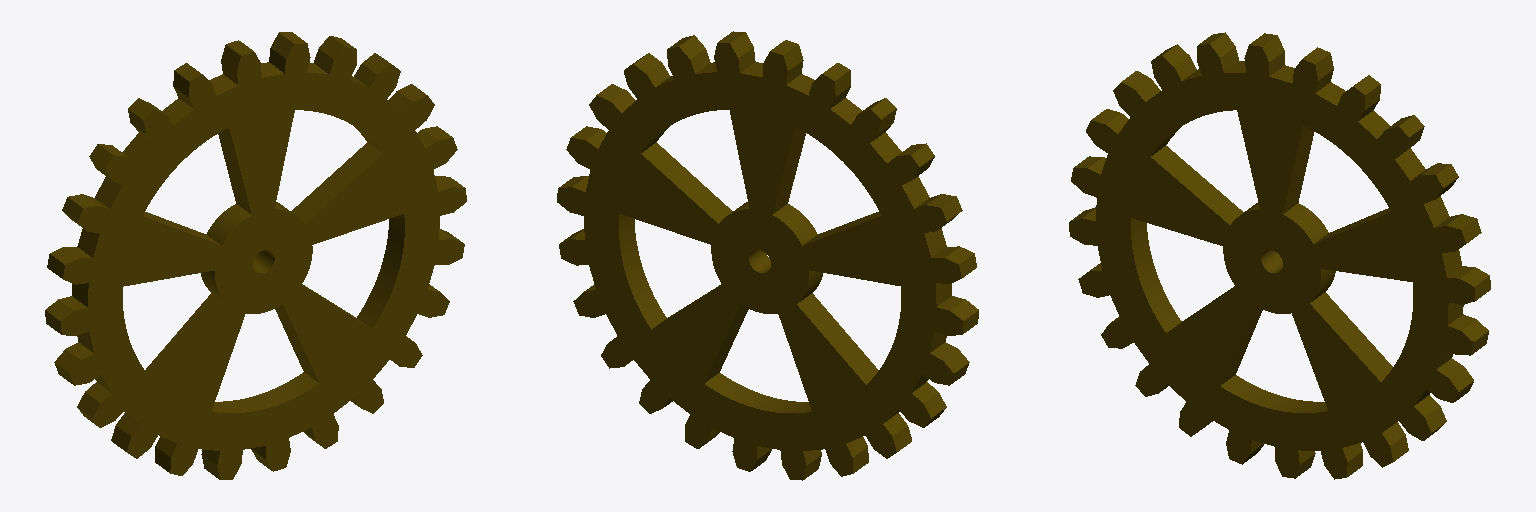
Rendered from gear1.obj.
The picture shows the model from 3 angles: view 1: azimuth 30°, elevation 25°; view 2: azimuth 150°, elevation 25°; view 3: azimuth 330°, elevation 25°; orthographic projection.
Parts seen in each view (by area): view 1: Cogwheels-Driveunit.001; view 2: Cogwheels-Driveunit.001; view 3: Cogwheels-Driveunit.001.
Boxes of the visible parts, <box> form: Cogwheels-Driveunit.001: <box>45,32,466,479</box>; Cogwheels-Driveunit.001: <box>557,31,978,480</box>; Cogwheels-Driveunit.001: <box>1069,32,1490,479</box>.
Size of the model in its own units: 1.36 by 1.36 by 0.0948.